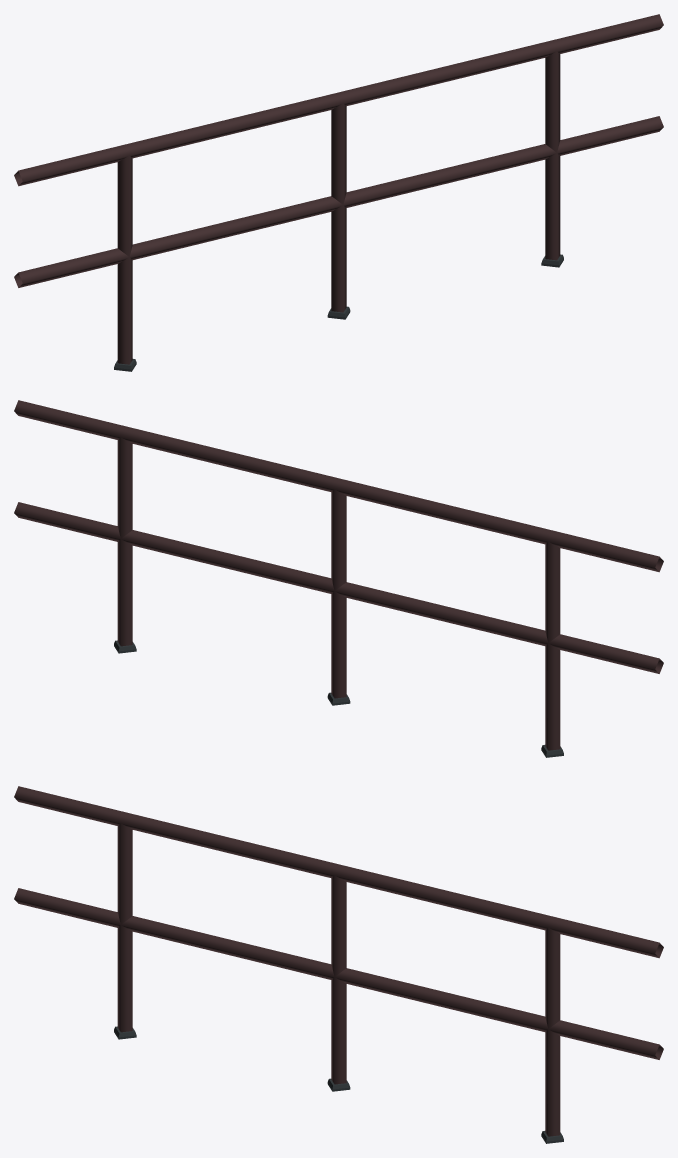
The model's file is SW_ENV_EL_Railing_Mid_3m.fbx.
3 views of the same model, one above another, from view 1: azimuth 30°, elevation 25°; view 2: azimuth 150°, elevation 25°; view 3: azimuth 330°, elevation 25° (orthographic).
Visible parts, largest first — view 1: SW_ENV_EL_Railing_Mid_3m; view 2: SW_ENV_EL_Railing_Mid_3m; view 3: SW_ENV_EL_Railing_Mid_3m.
Boxes of the visible parts, <box> form: SW_ENV_EL_Railing_Mid_3m: <box>14,14,663,371</box>; SW_ENV_EL_Railing_Mid_3m: <box>14,400,663,757</box>; SW_ENV_EL_Railing_Mid_3m: <box>14,786,663,1143</box>.
Bounding box in the file's own units: 3 × 0.9954 × 0.1061.
